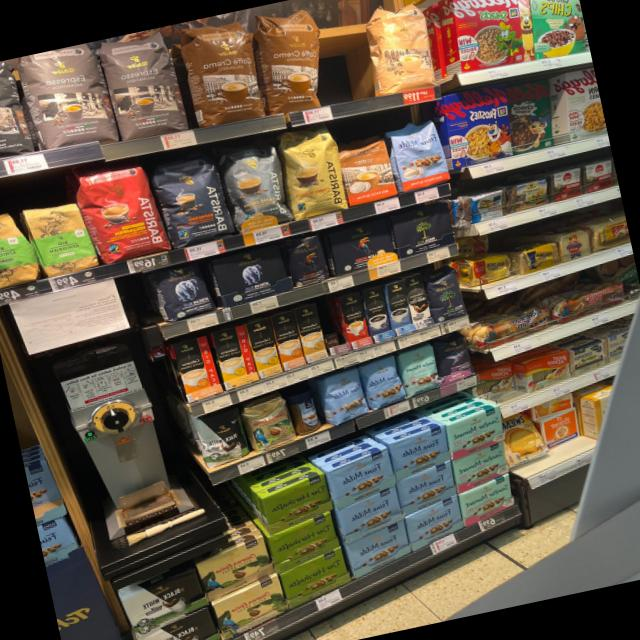AB Bohne: (148, 259, 221, 324)
AB Gemahlen: (211, 242, 295, 307)
Athiopien Bohne: (0, 211, 45, 289)
Athiopien Gemahlen: (19, 197, 104, 279)
BM Gemahlen: (386, 199, 460, 259)
BW Bohne: (189, 403, 253, 472)
BW Gemahlen: (121, 568, 210, 638), (136, 604, 222, 640)
Barista CB: (274, 124, 352, 223)
Barista CC: (212, 135, 295, 234)
Barista Espresso: (145, 149, 235, 252)
Barista Kolumbien: (71, 162, 172, 265)
C Fino Bohne: (421, 266, 468, 323), (433, 333, 479, 384)
CC Mild: (359, 0, 439, 97)
CC Vollmundig: (335, 134, 399, 208)
CC Vollmundig 36 Pads: (173, 13, 269, 128), (247, 0, 335, 117)
Colombia BB Bohne: (240, 391, 300, 453)
Colombia BB Gemahlen: (193, 535, 276, 602), (210, 573, 289, 640)
Empty Shelf: (314, 5, 377, 105), (314, 295, 352, 355)
Espresso Aromatisch: (10, 41, 123, 151), (94, 27, 193, 142)
Espresso Kraftig: (0, 59, 36, 157)
FM 36 Pads: (383, 115, 453, 193)
FM Bohne: (317, 366, 375, 428), (356, 353, 408, 412)
FM Gemahlen: (324, 446, 397, 511), (334, 483, 406, 545), (343, 518, 414, 580), (386, 424, 451, 482), (404, 494, 466, 551), (395, 461, 458, 517)
FM Instant: (285, 386, 328, 438)
Herzhatfe Mundig: (265, 511, 343, 575), (261, 471, 334, 535), (278, 547, 352, 610)
LG Bohne: (280, 231, 334, 289)
LG Gemahlen: (325, 215, 399, 277)
SM Bohne: (394, 342, 444, 399)
SM Gemahlen: (445, 404, 506, 460), (450, 440, 512, 495), (457, 473, 518, 528)
Simo CCMild: (210, 322, 260, 390)
Simo CCMild bigpack: (245, 316, 284, 379)
Simo CCVollmundig: (169, 334, 224, 404)
Simo CCVollmundig bigpack: (269, 309, 307, 372)
Simo Decaff: (292, 302, 330, 363)
Simo Es Brazil: (337, 290, 374, 350)
Simo Es Elegant: (403, 272, 435, 330)
Simo Es Kraft: (360, 284, 396, 344)
Simo Es Vanilla: (385, 279, 417, 337)
